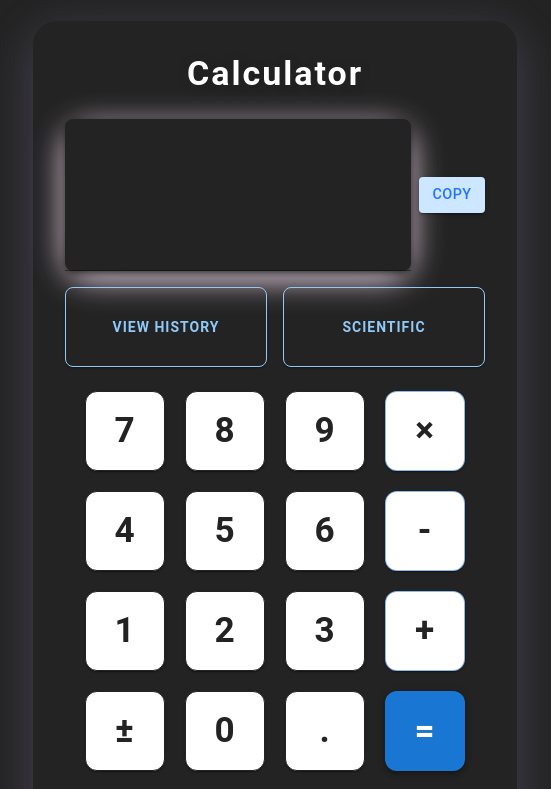
performs addition correctly
Step 1. Click the button "1" → (125, 631), box [85,591,165,671]
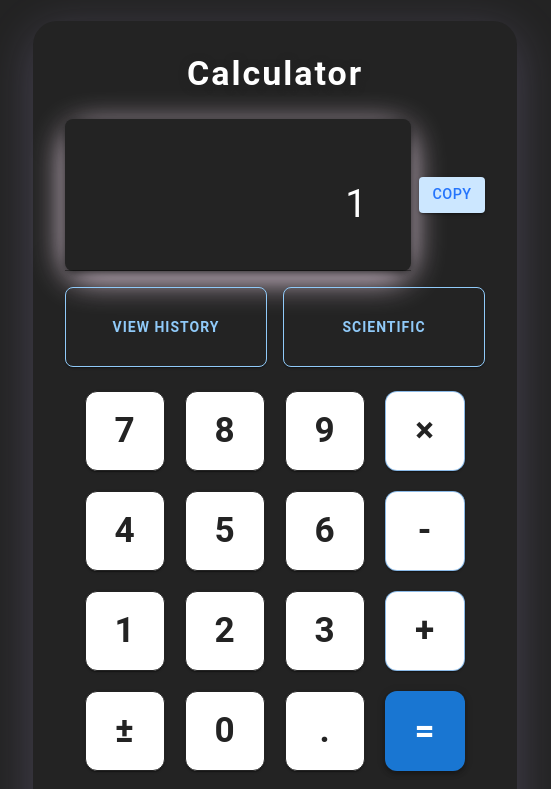
Step 2. Click the button "+" → (425, 631), box [385,591,465,671]
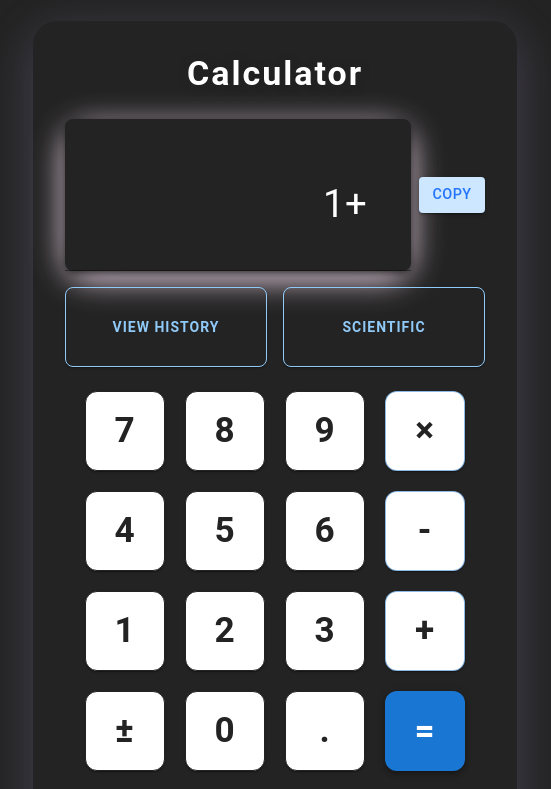
Step 3. Click the button "2" → (225, 631), box [185,591,265,671]
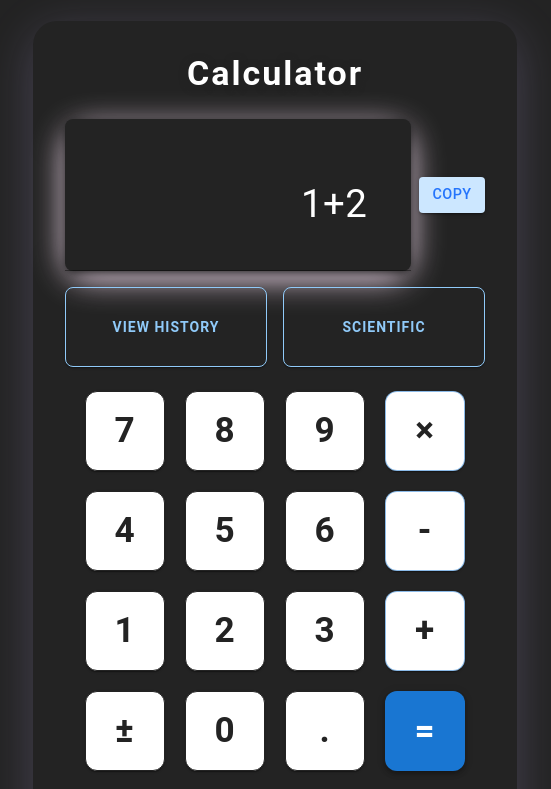
Step 4. Click the button "=" → (425, 731), box [385,691,465,771]
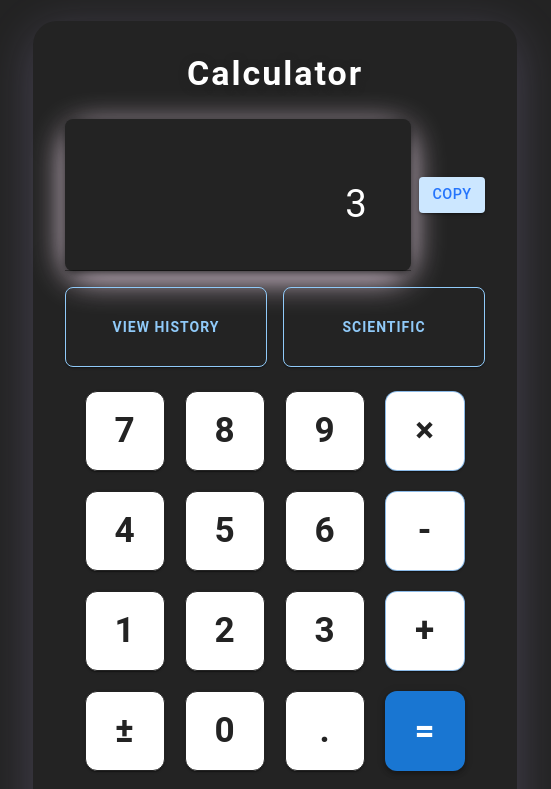
Expected: the field holds "3", [97,151,379,239]
